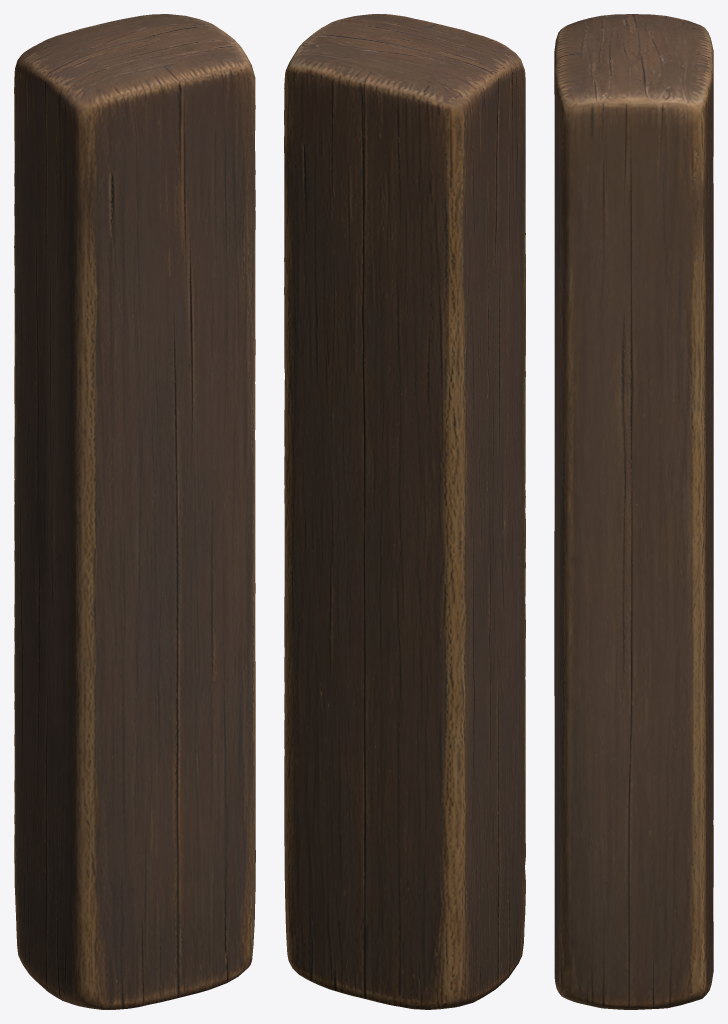
Rendered from Furn_GreenhouseCenterShelf_Leg.fbx.
3 renders of one model, left to right at view 1: azimuth 30°, elevation 25°; view 2: azimuth 150°, elevation 25°; view 3: azimuth 270°, elevation 25°, orthographic.
Parts seen in each view (by area): view 1: texture_mapping; view 2: texture_mapping; view 3: texture_mapping.
Boxes of the visible parts, <box> form: texture_mapping: <box>14,14,255,1009</box>; texture_mapping: <box>284,14,525,1009</box>; texture_mapping: <box>554,14,713,1009</box>.
Size of the model in its own units: 0.2061 by 0.1557 by 0.9998.
Materials: 1 (1 with a texture image).
